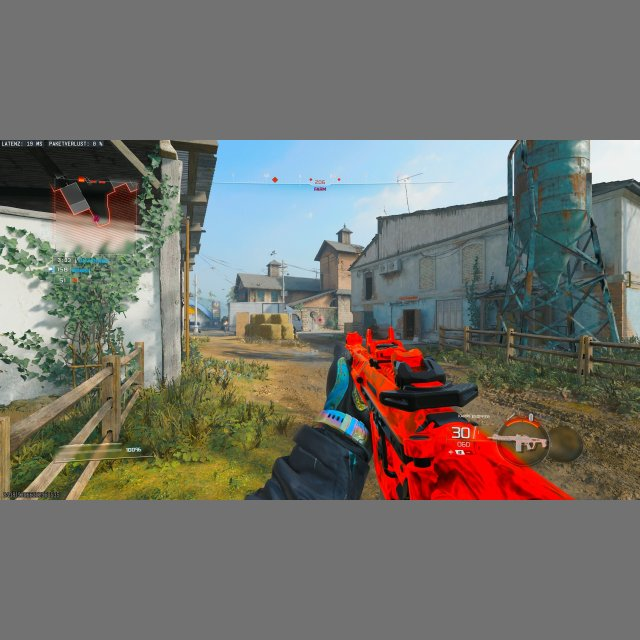player: (220, 316, 229, 333)
